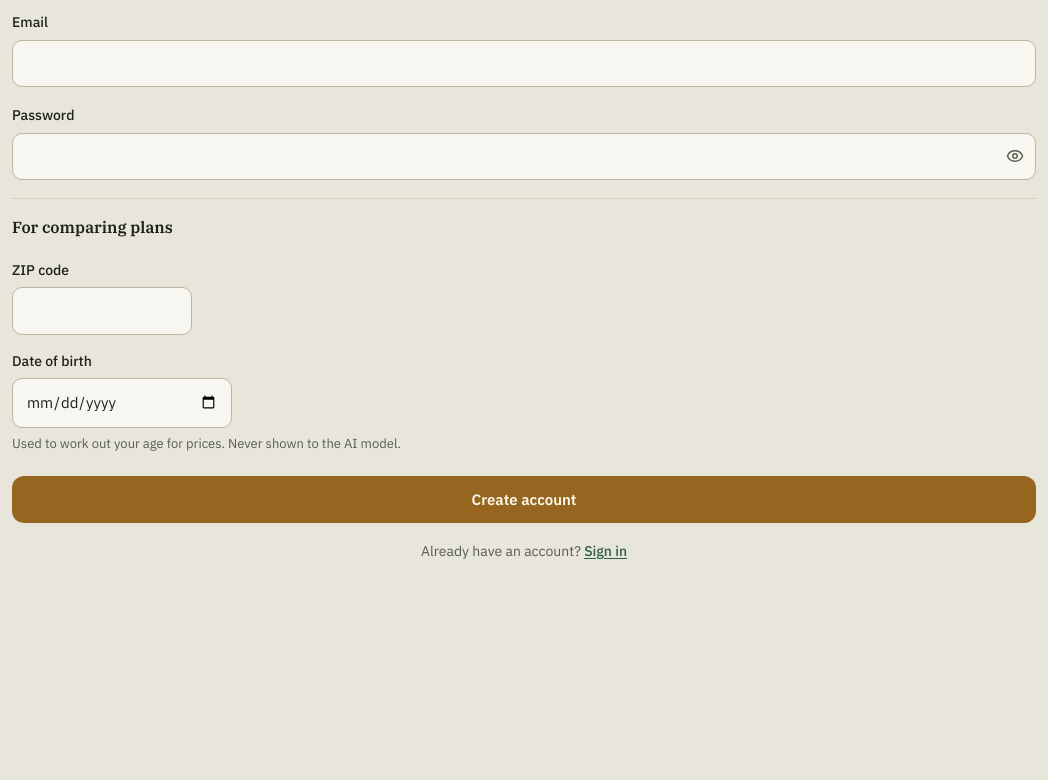
AuthForm › shows the server's verdict on a field beside that field
The width and height of the screenshot is (1048, 780).
Type "alice@example.com" into the field labelled "Email" at (524, 63), box [12, 40, 1036, 87]
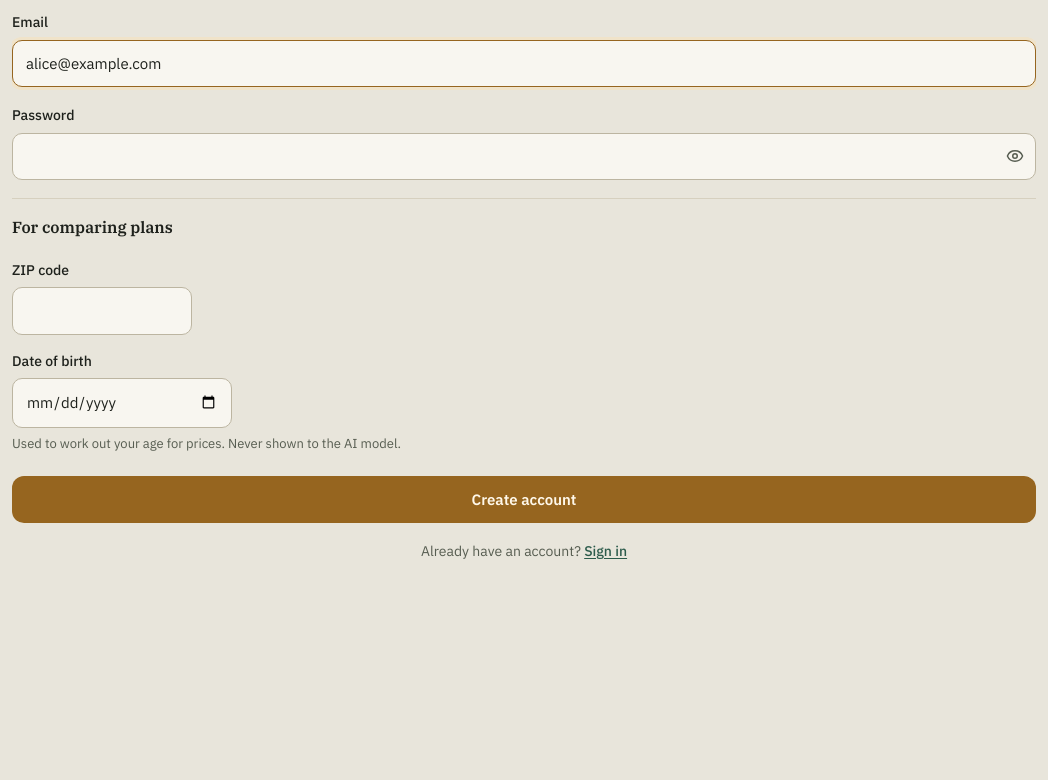
Type "correct-horse-1" into the password field labelled "Password" at (524, 156), box [12, 133, 1036, 180]
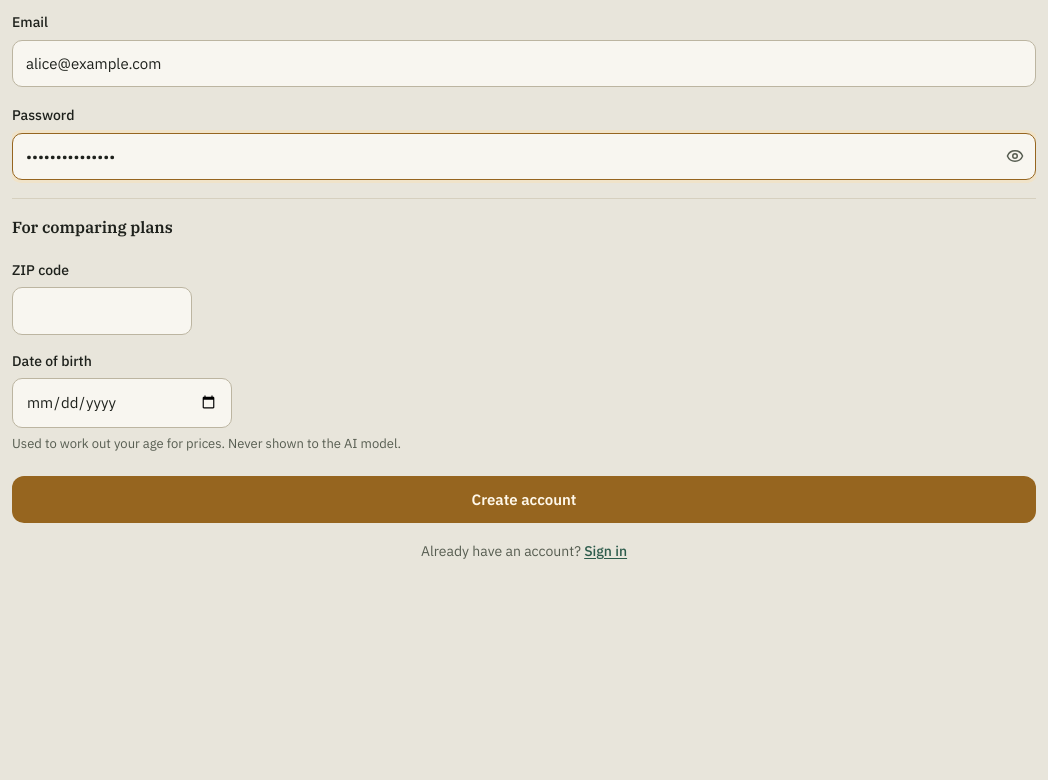
Type "75801" into the field labelled "ZIP code" at (102, 311), box [12, 287, 192, 335]
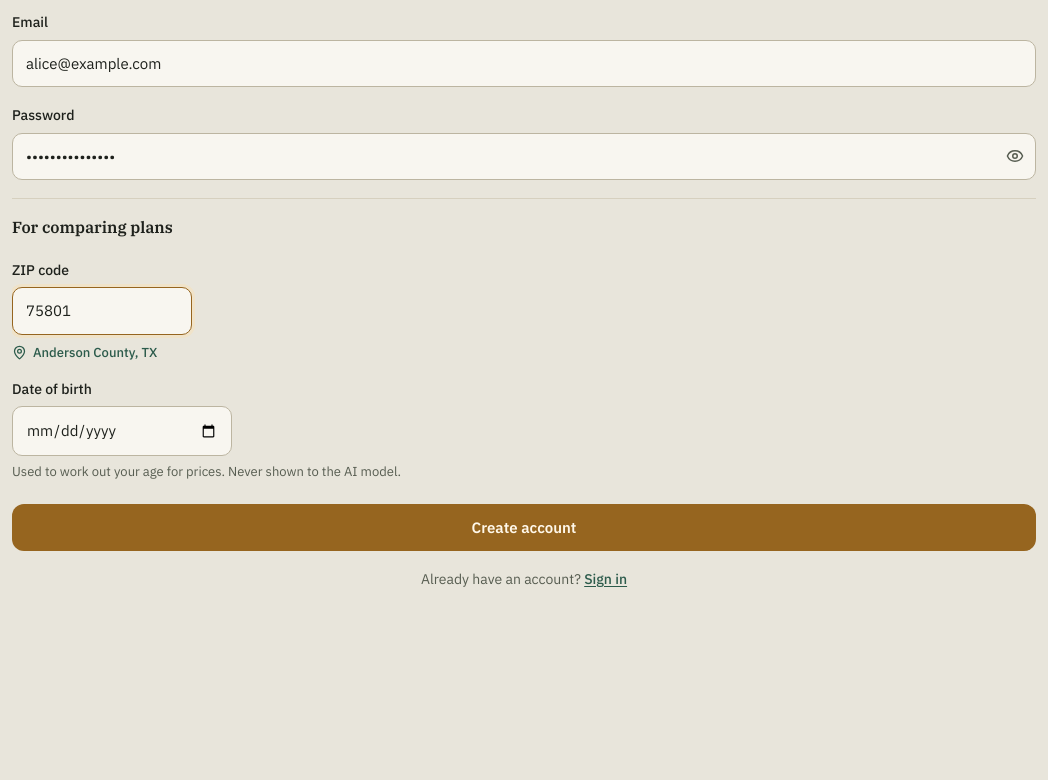
Type "1990-05-17" into the date field labelled "Date of birth" at (122, 431), box [12, 406, 232, 456]
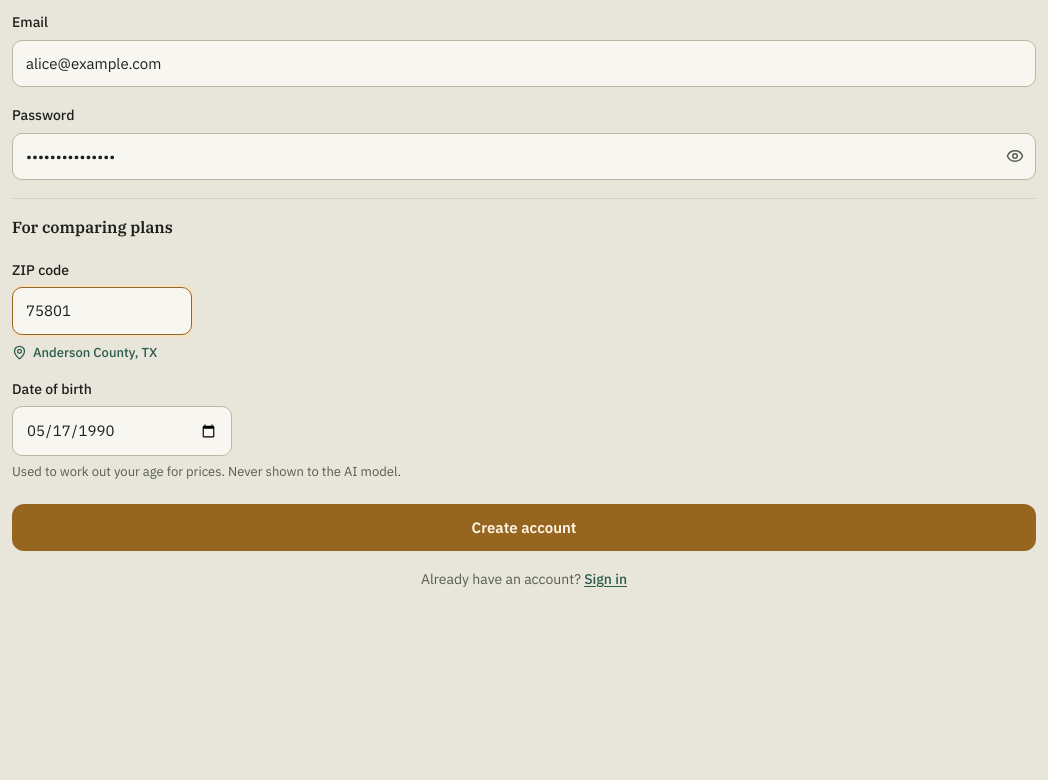
Expected: the text "Anderson County, TX" is shown, [33, 343, 157, 363]
Click the button "Create account" at (524, 527), box [12, 504, 1036, 551]
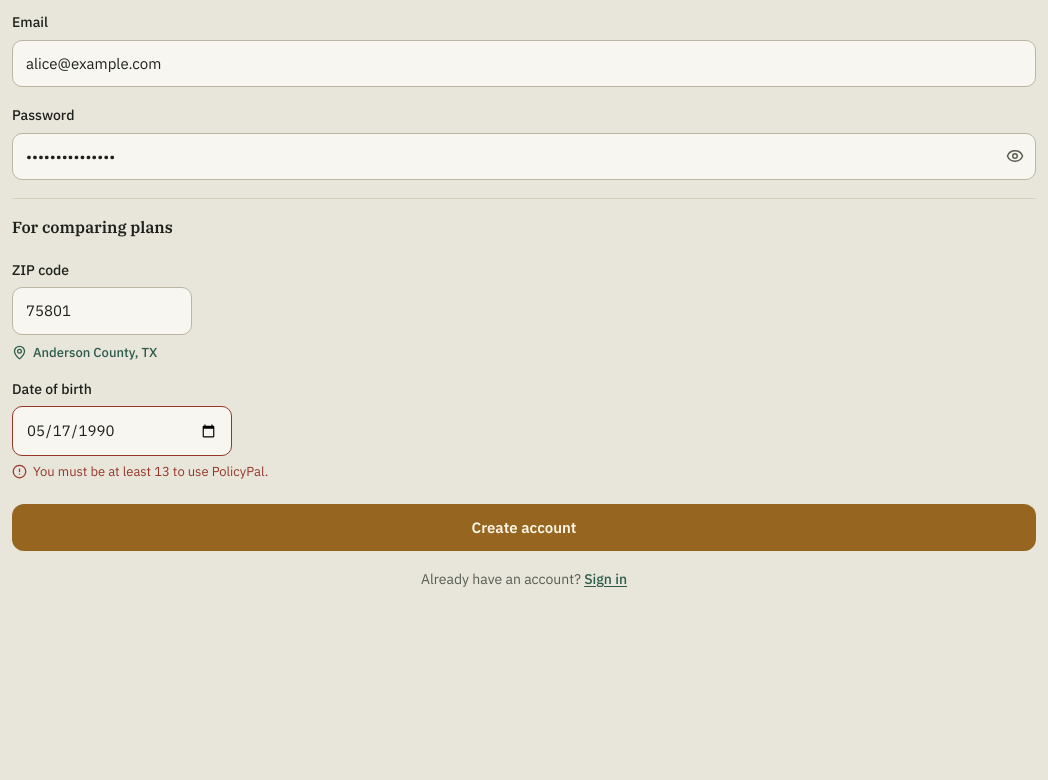
Expected: the text "You must be at least 13 to use PolicyPal." is shown, [12, 463, 268, 480]
